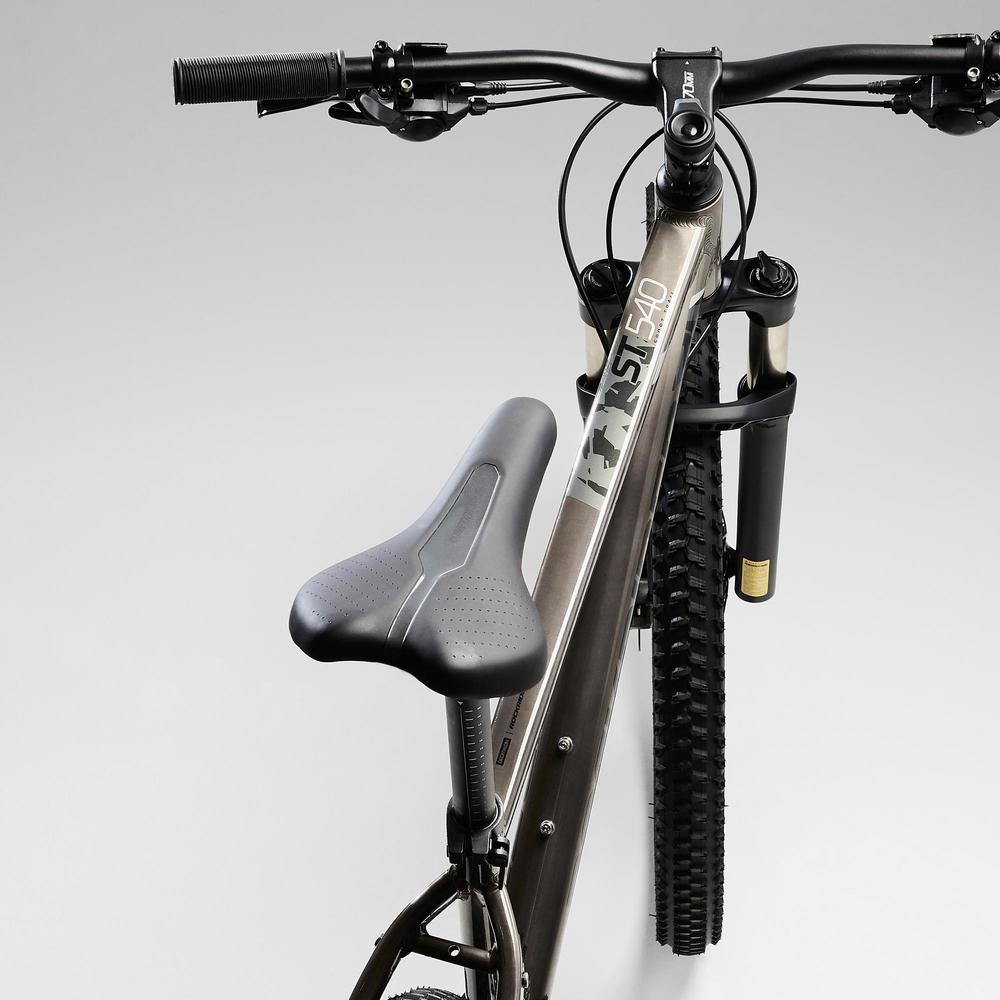MountainBike: (164, 27, 1000, 1000)
